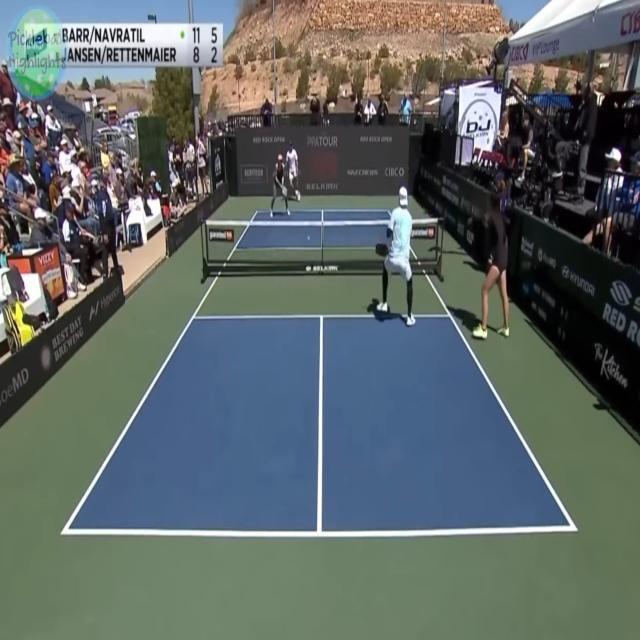ball: (305, 231, 313, 245)
